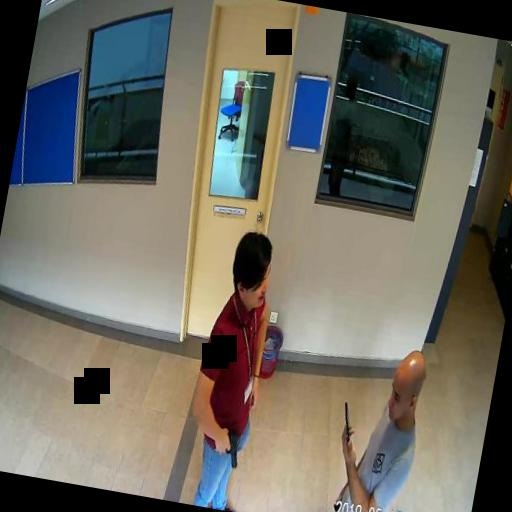Handgun: (214, 426, 242, 468)
